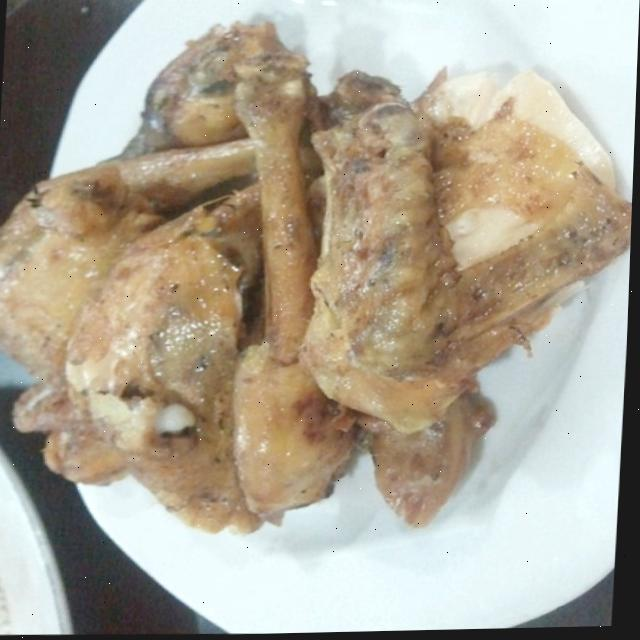鸡肉料理 含炸鸡: (0, 19, 639, 593)
